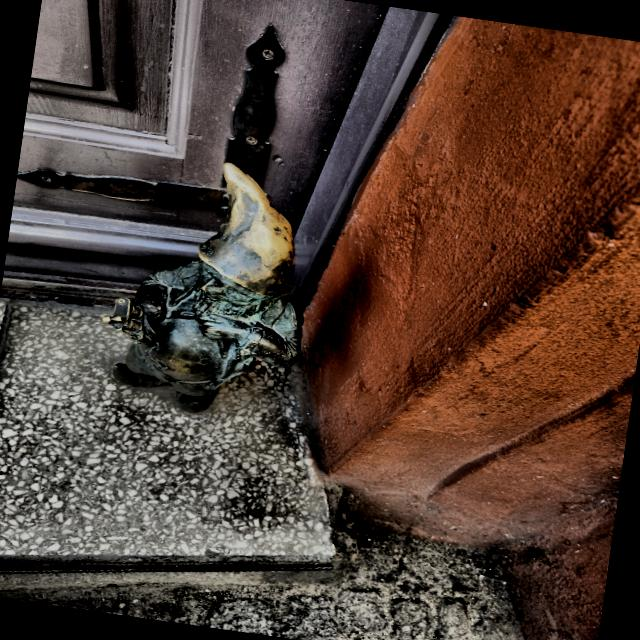TatuazystaKonstanty: (104, 162, 303, 412)
